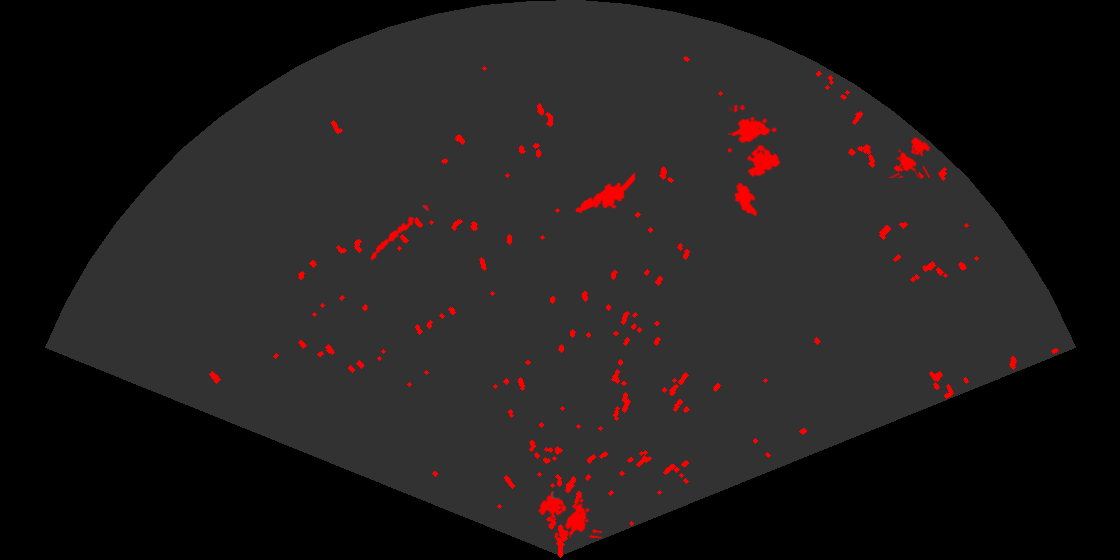AUV: (733, 181, 759, 218)
cage: (728, 105, 782, 179), (536, 490, 602, 538), (887, 135, 932, 178)
chain: (369, 197, 435, 262)
frogman: (574, 171, 635, 215)
